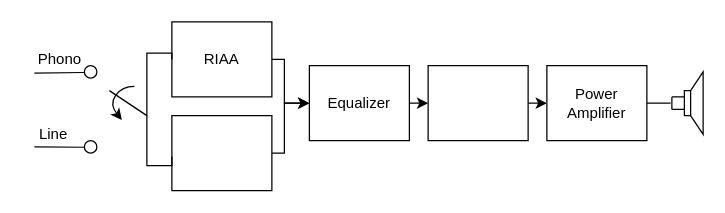
This 725x213 diagram has some shape labels left out. The shapes that lost their labels are listed below. From the top down, each one's centre as x and y in pixels, then its label:
At point (477, 102): "Volume Control".
At point (221, 152): "Preamplifier".
